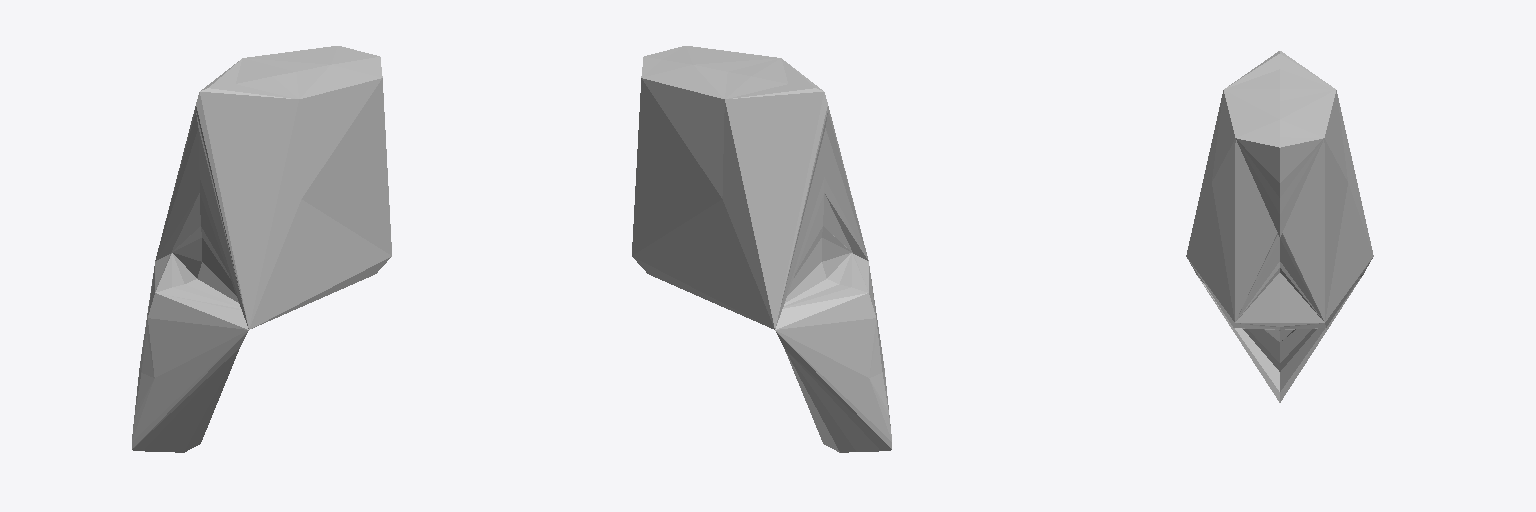
File: aberta.obj
3 views of the same model, side by side, from view 1: azimuth 30°, elevation 25°; view 2: azimuth 150°, elevation 25°; view 3: azimuth 270°, elevation 25° (orthographic).
Visible parts, largest first — view 1: grp1; view 2: grp1; view 3: grp1.
Part boxes in pixels (x1,y1,x2,y2): grp1: (132,46,391,452); grp1: (632,46,891,452); grp1: (1186,51,1373,402).
Size of the model in its own units: 201 by 277 by 131.